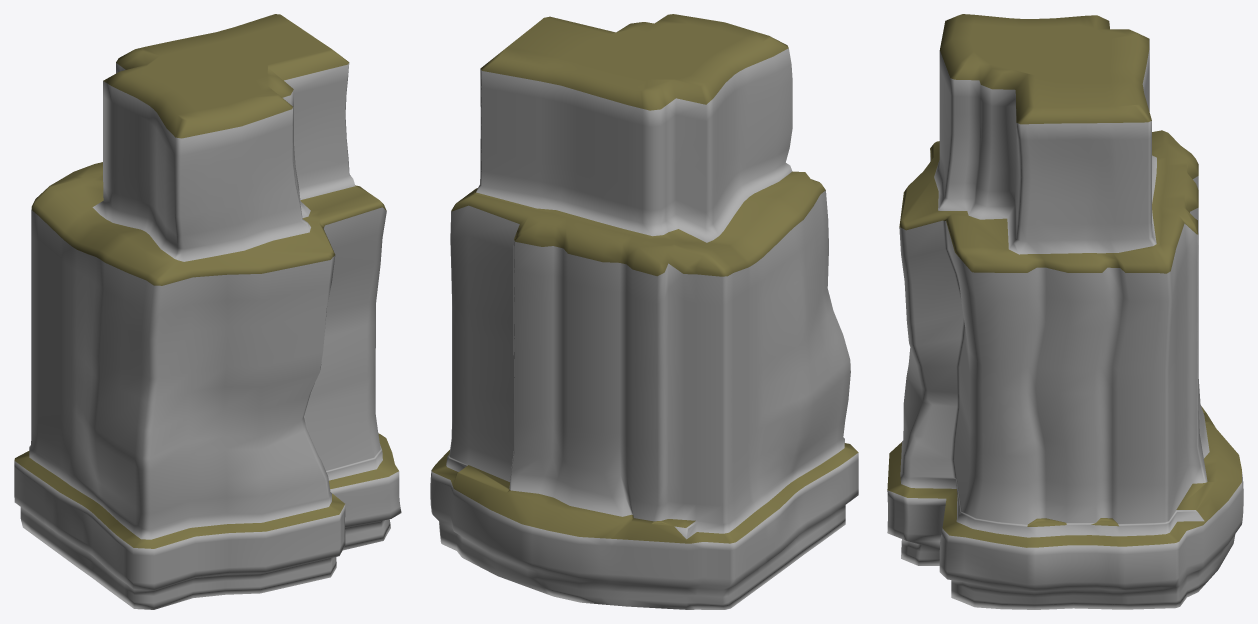
The model's file is montaña.fbx.
3 renders of one model, left to right at view 1: azimuth 30°, elevation 25°; view 2: azimuth 150°, elevation 25°; view 3: azimuth 270°, elevation 25°, orthographic. The views are drawn at different scales.
Parts seen in each view (by area): view 1: pCube1; view 2: pCube1; view 3: pCube1.
Boxes of the visible parts, bbox=[...] form: pCube1: bbox=[14, 14, 401, 609]; pCube1: bbox=[430, 14, 858, 609]; pCube1: bbox=[887, 14, 1243, 609].
Bounding box in the file's own units: 4.62 × 6.73 × 4.49.
